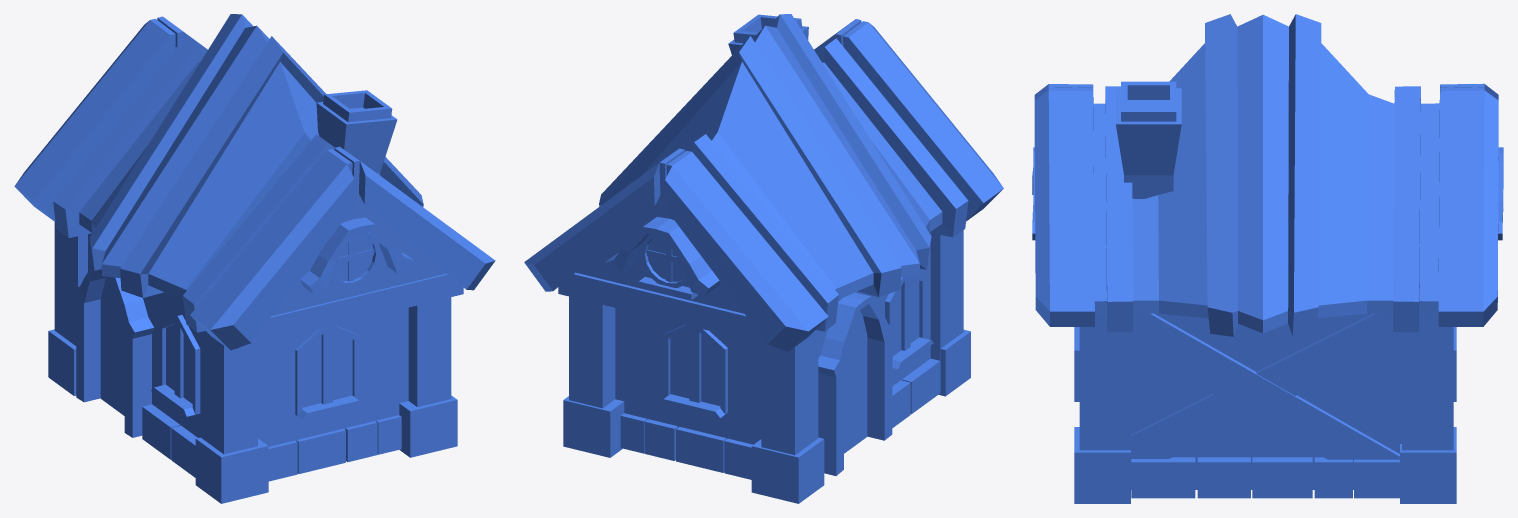
The model's file is House_Variant1.fbx.
3 views of the same model, side by side, from view 1: azimuth 30°, elevation 25°; view 2: azimuth 150°, elevation 25°; view 3: azimuth 270°, elevation 25° (orthographic). The views are drawn at different scales.
Parts seen in each view (by area): view 1: House_Variant1; view 2: House_Variant1; view 3: House_Variant1.
Part boxes in pixels (<box>): House_Variant1: <box>14,14,495,503</box>; House_Variant1: <box>524,14,1003,503</box>; House_Variant1: <box>1032,14,1503,503</box>.
Bounding box in the file's own units: 264 × 314 × 314.
